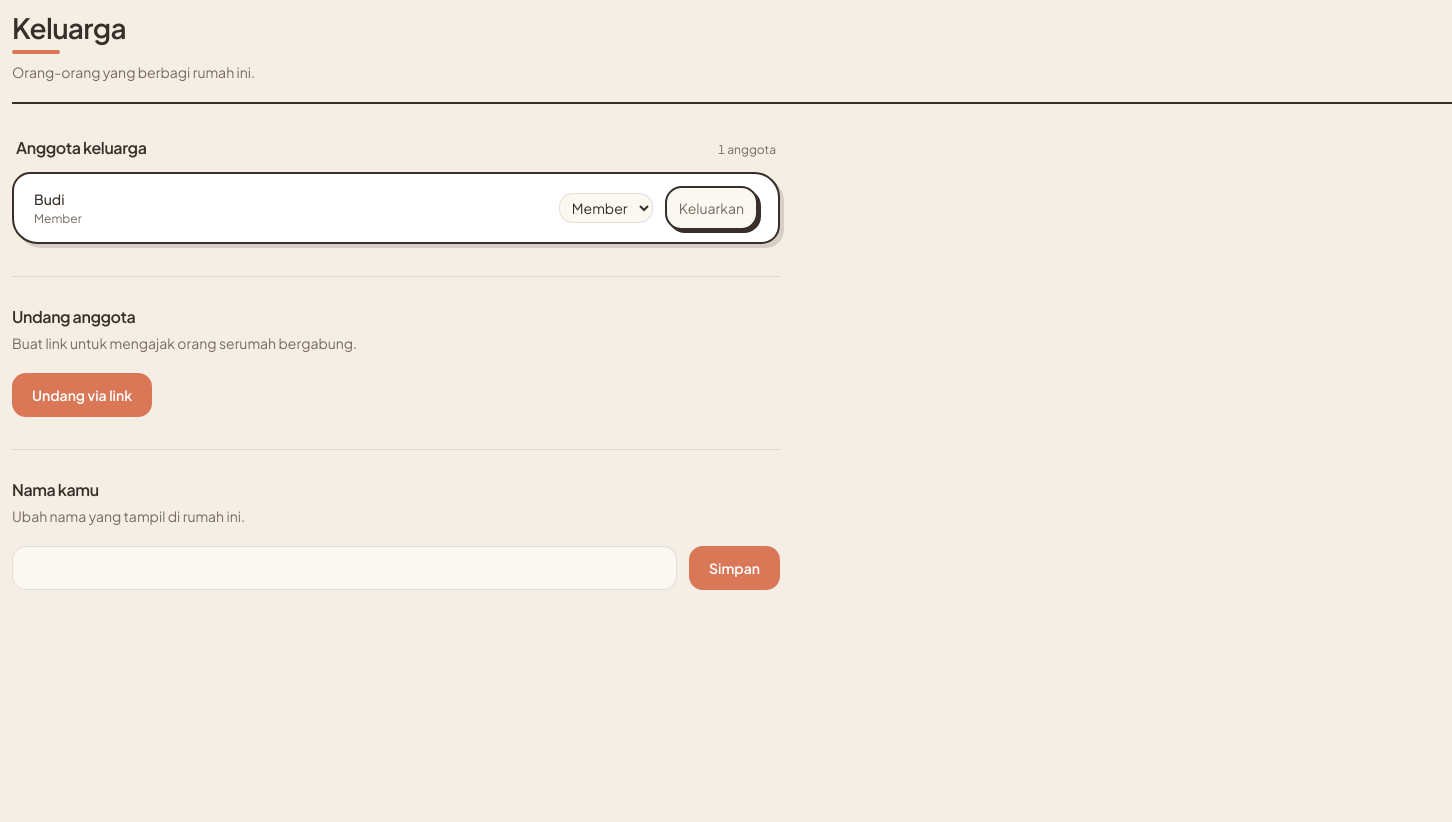
Scenario: gagal keluarkan -> pesan error tampil, baris tetap
Click the button "Keluarkan" at [711, 208], box [665,186,758,230]
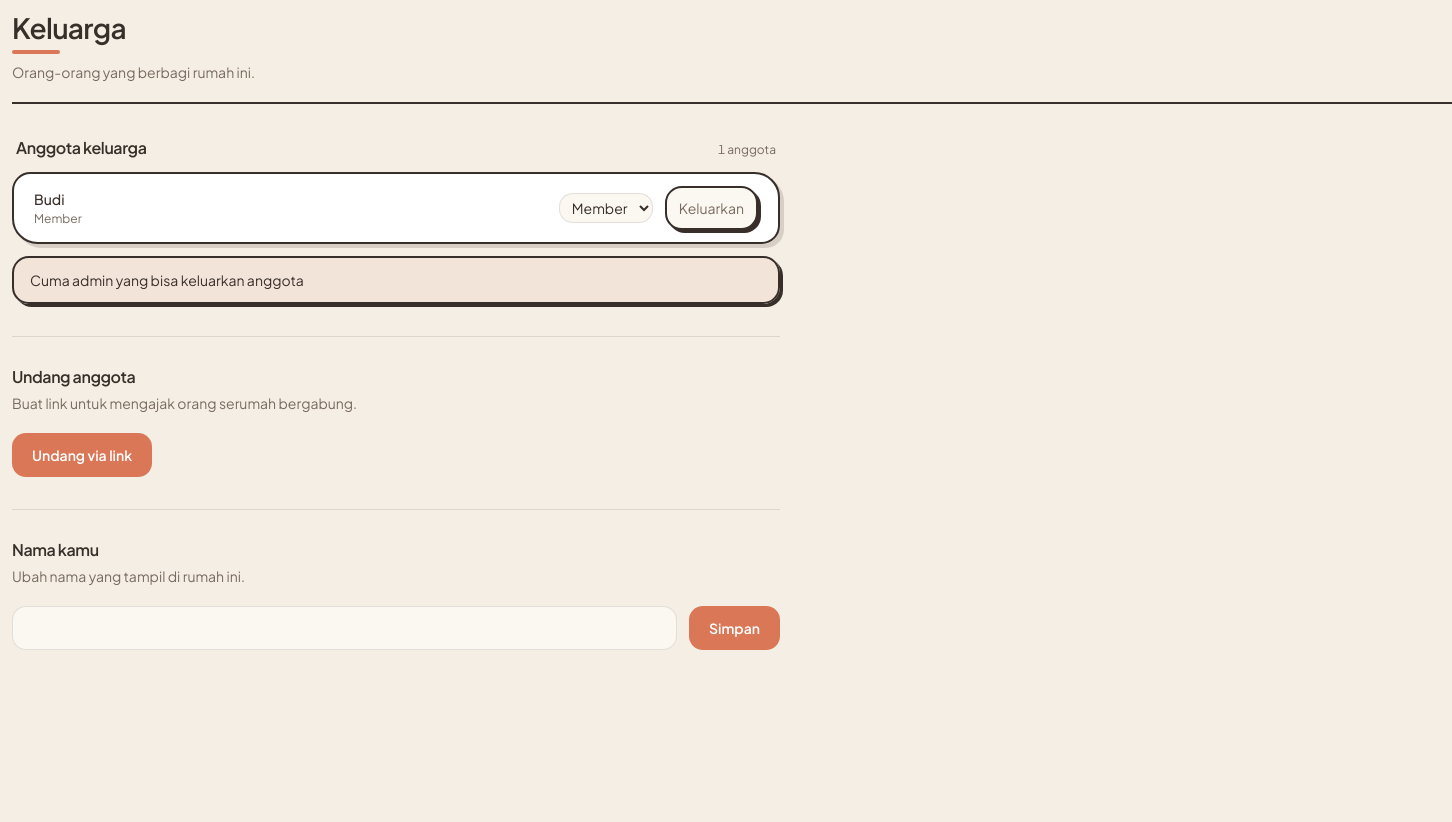
Expected: the text "Budi" is shown, [34,190,64,208]
Expected: the text "Cuma admin yang bisa keluarkan anggota" is shown, [12,256,780,304]
